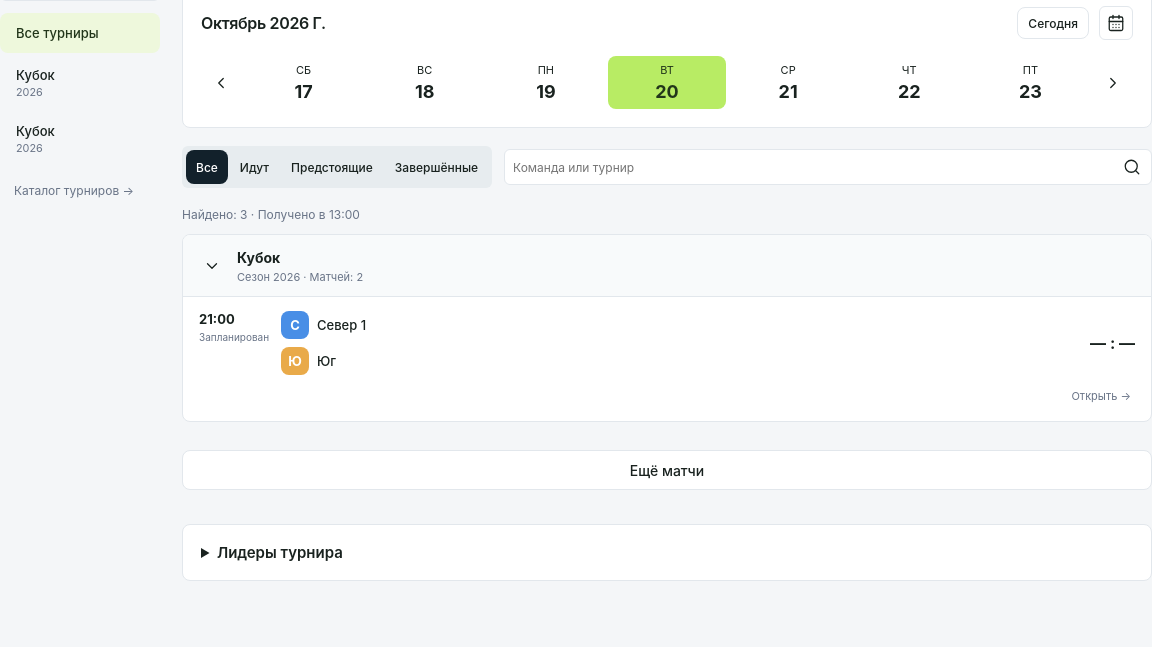
Test case: keeps same-name groups distinct and merges the next page without duplicating matches
The width and height of the screenshot is (1152, 647).
Expected: the link with aria-label "Открыть матч Север 1 — Юг" is shown, [1068,385,1135,407]
Click the button "Ещё матчи" at (667,470), box [182,450,1151,490]
(page scrolled)
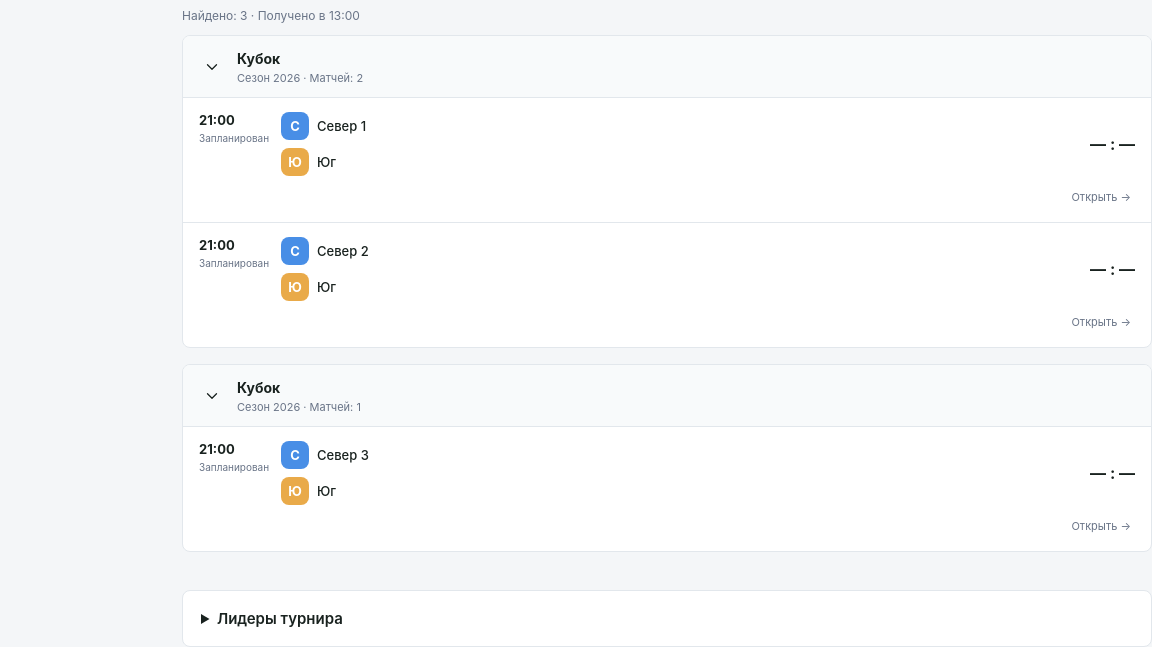
Now the link with aria-label "Открыть матч Север 3 — Юг" is shown, box [1068,515,1135,537]
Now the number of links named "Открыть турнир Кубок" is 2, box [237,50,280,67]; [237,379,280,396]
Now the number of links named "Открыть матч Север 1 — Юг" is 1, box [1068,186,1135,208]
